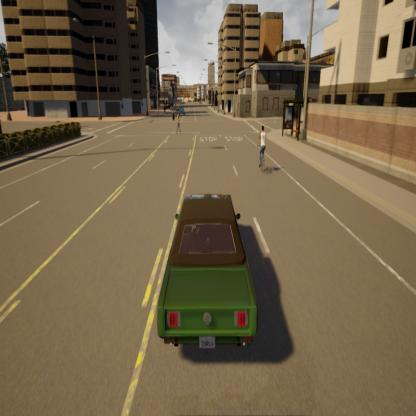Cars: (154, 182, 262, 363)
Pedestrian: (174, 108, 184, 135)
